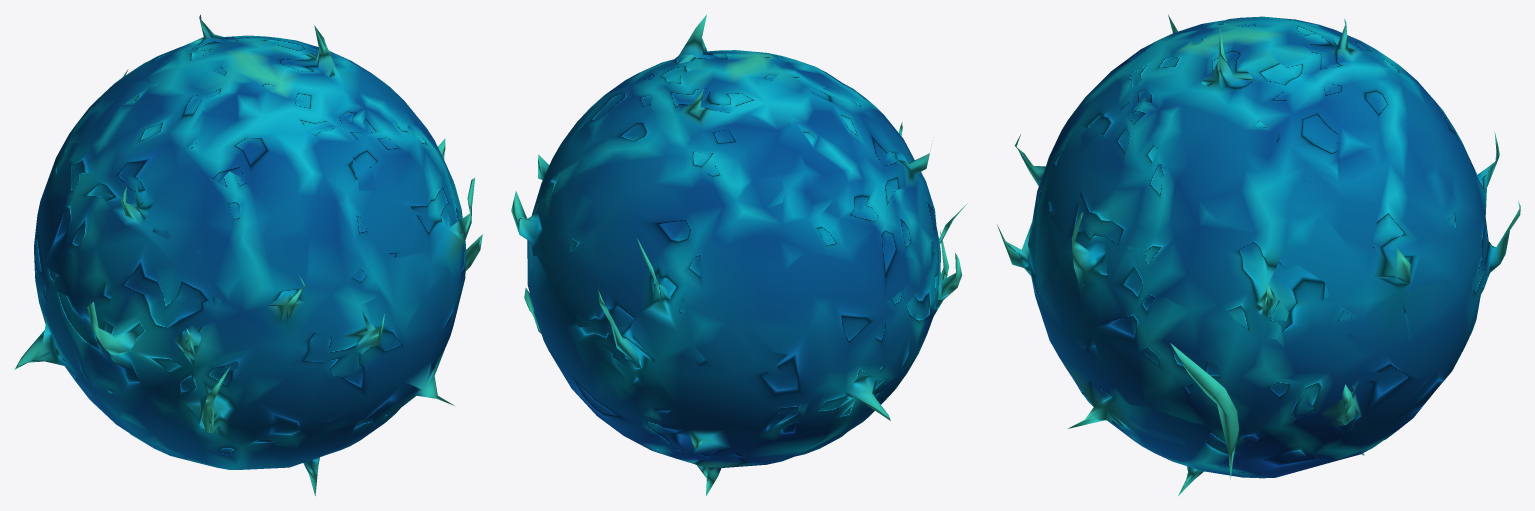
Rendered from gen3d-energy-ball-lod0.glb.
The picture shows the model from 3 angles, left to right: view 1: azimuth 30°, elevation 25°; view 2: azimuth 150°, elevation 25°; view 3: azimuth 270°, elevation 25°; orthographic projection. The views are drawn at different scales.
Parts seen in each view (by area): view 1: part_0; view 2: part_0; view 3: part_0.
Part boxes in pixels (x1,y1,x2,y2): part_0: (14, 14, 482, 495); part_0: (511, 14, 967, 495); part_0: (997, 14, 1520, 495).
Size of the model in its own units: 0.9227 by 0.9992 by 0.9898.
